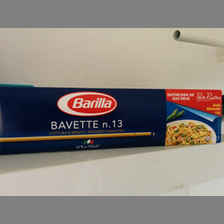pasta: (1, 84, 224, 157)
